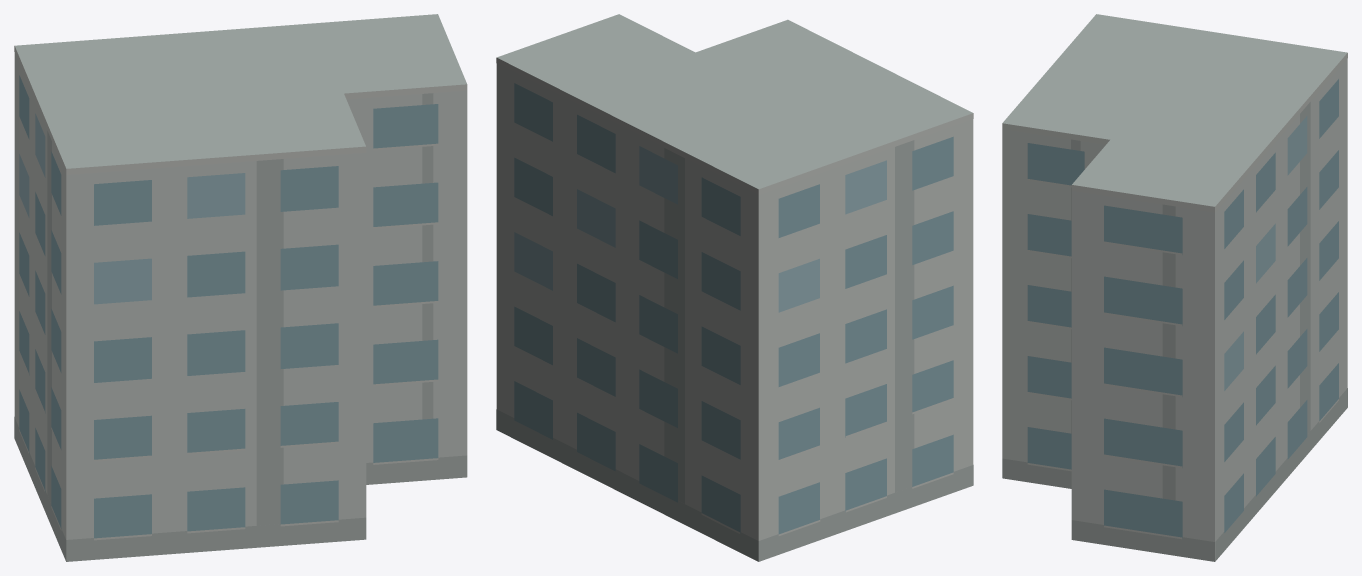
Rendered from residential-eac8b100-9ae6-4c0d-beb9-9e9c30729614.glb.
The picture shows the model from 3 angles, left to right: view 1: azimuth 30°, elevation 25°; view 2: azimuth 150°, elevation 25°; view 3: azimuth 270°, elevation 25°; orthographic projection. The views are drawn at different scales.
Parts seen in each view (by area): view 1: residential-eac8b100-9ae6-4c0d-beb9-9e9c30729614.tmp; view 2: residential-eac8b100-9ae6-4c0d-beb9-9e9c30729614.tmp; view 3: residential-eac8b100-9ae6-4c0d-beb9-9e9c30729614.tmp.
Part boxes in pixels (x1,y1,x2,y2): residential-eac8b100-9ae6-4c0d-beb9-9e9c30729614.tmp: (14,14,467,561); residential-eac8b100-9ae6-4c0d-beb9-9e9c30729614.tmp: (496,14,973,561); residential-eac8b100-9ae6-4c0d-beb9-9e9c30729614.tmp: (1002,14,1347,561).
Bounding box in the file's own units: 17.77 × 15.25 × 13.46.
